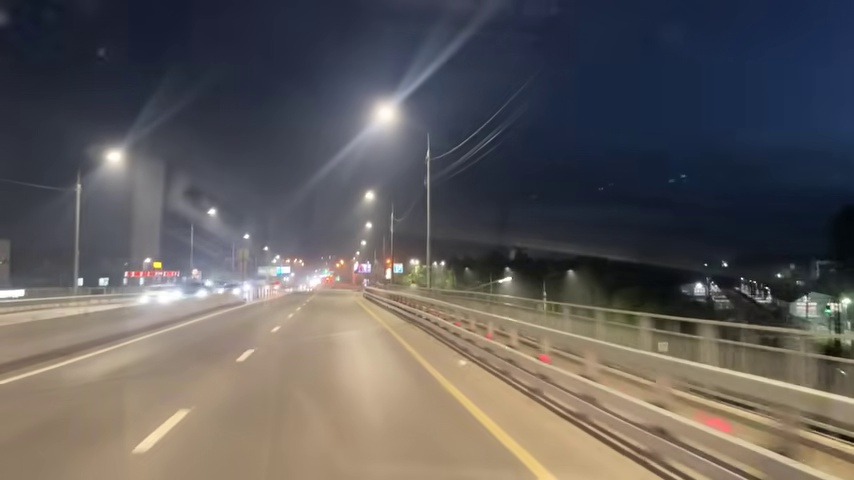acesa: (372, 102, 397, 126), (103, 147, 127, 170), (360, 188, 378, 207), (204, 205, 220, 222), (362, 220, 375, 235)
